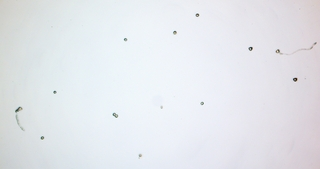germinated: (274, 47, 287, 56), (14, 105, 22, 114)
nongerminated: (290, 75, 298, 83), (198, 100, 206, 107), (137, 151, 144, 159), (247, 45, 254, 52), (194, 12, 201, 18), (171, 29, 178, 35), (39, 133, 45, 140), (122, 36, 127, 42), (52, 89, 57, 95), (111, 110, 116, 116), (114, 113, 119, 119)
